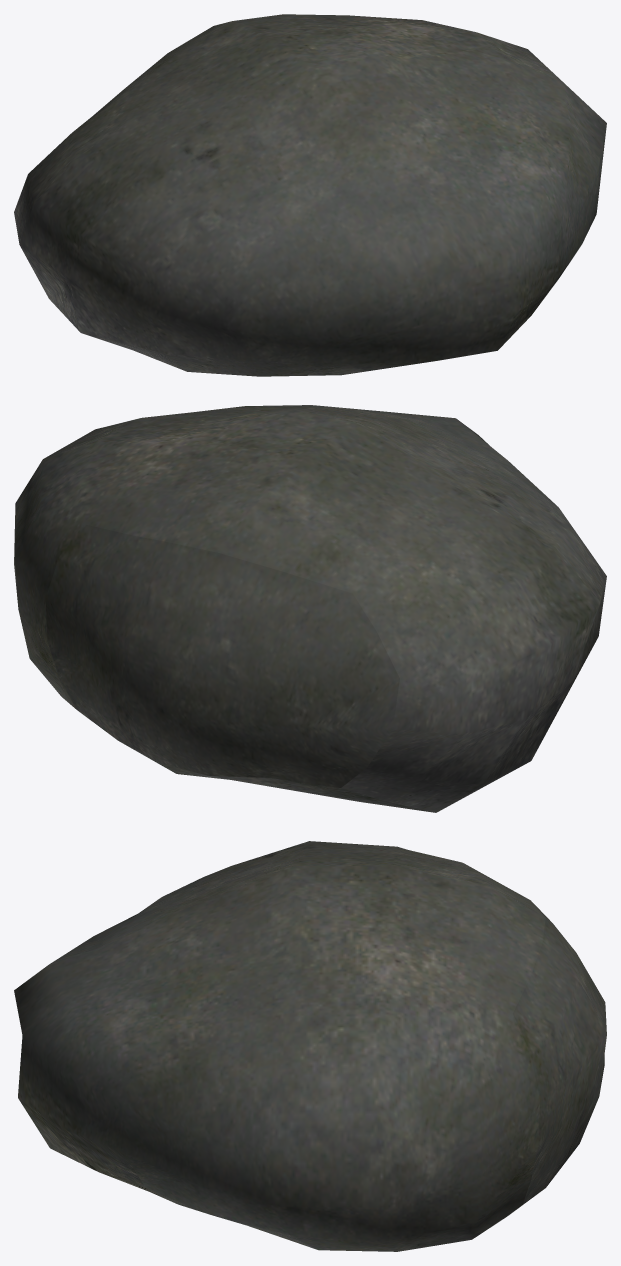
The model's file is rock_forest_round.DAE.
The picture shows the model from 3 angles, top to bottom: view 1: azimuth 30°, elevation 25°; view 2: azimuth 150°, elevation 25°; view 3: azimuth 270°, elevation 25°; orthographic projection. The views are drawn at different scales.
Parts seen in each view (by area): view 1: klipparundlow; view 2: klipparundlow; view 3: klipparundlow.
Boxes of the visible parts, x1,y1,x2,y2 form: klipparundlow: [14, 14, 606, 376]; klipparundlow: [14, 405, 606, 812]; klipparundlow: [14, 841, 606, 1251].
Size of the model in its own units: 3.35 by 1.75 by 3.02.
